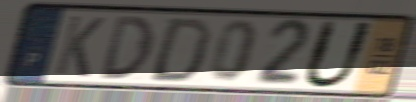0: (208, 17, 260, 87)
2: (254, 17, 314, 89)
D: (145, 16, 215, 85), (99, 14, 157, 82)
K: (51, 13, 108, 80)
U: (299, 18, 378, 91)
